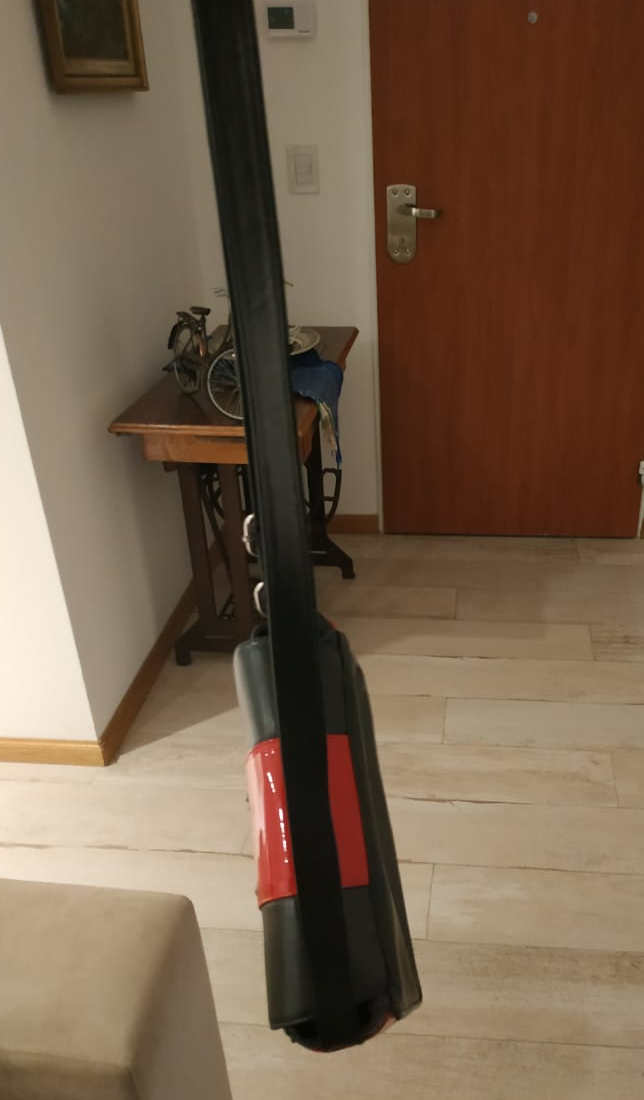cartera: (125, 28, 465, 1077)
cuero: (187, 95, 434, 1063)
